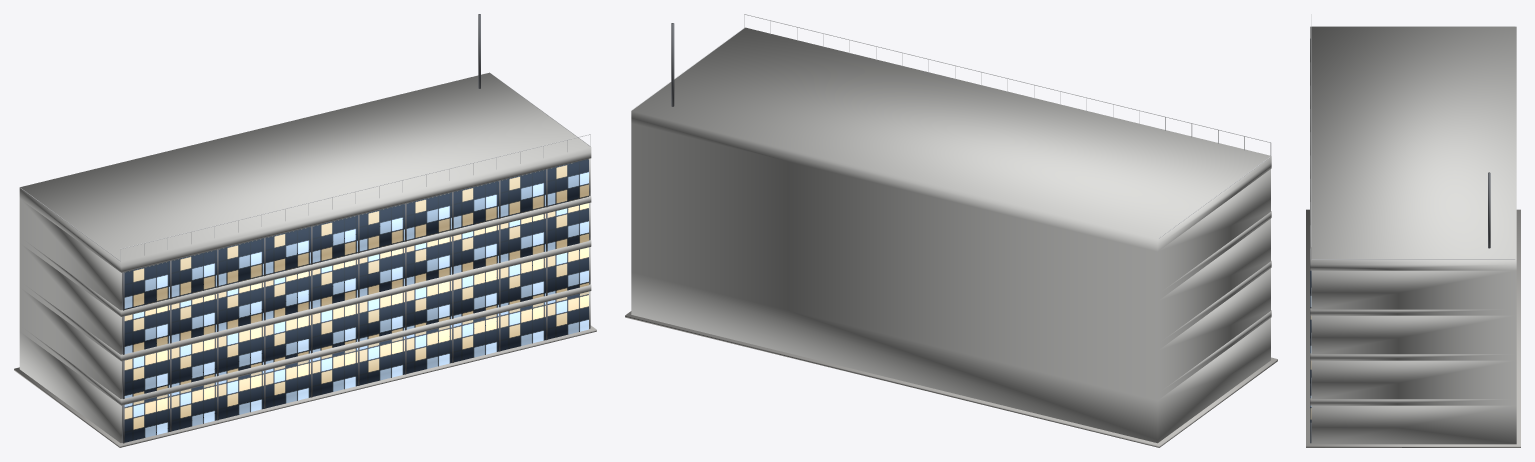
Rendered from media_centre.glb.
The picture shows the model from 3 angles, left to right: view 1: azimuth 30°, elevation 25°; view 2: azimuth 150°, elevation 25°; view 3: azimuth 270°, elevation 25°; orthographic projection. The views are drawn at different scales.
Visible parts, largest first — view 1: media_centre; view 2: media_centre; view 3: media_centre.
Boxes of the visible parts, x1,y1,x2,y2 form: media_centre: (14, 14, 596, 447); media_centre: (625, 14, 1277, 447); media_centre: (1306, 14, 1520, 447).
Bounding box in the file's own units: 40.6 × 20.95 × 15.6.
